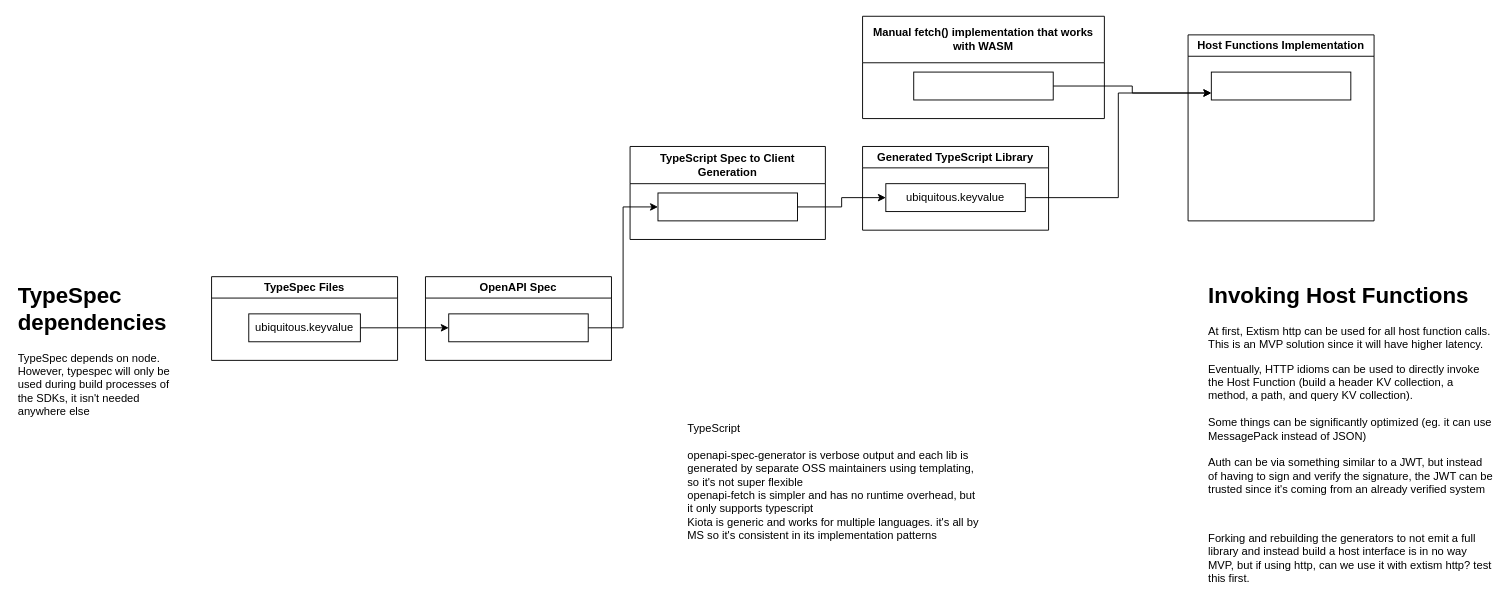
Some shapes in this 1510 by 612 pixel diagram are drawn without their labels. The shapes that lost their labels are listed below. From the top down, each one's centre as x and y in pixels, then its label:
(x=983, y=85): ubiquitous.host.fetch
(x=1280, y=85): POST /ubiq/keyvalue/read
(x=727, y=206): openapi-fetch
(x=518, y=327): ubiquitous.keyvalue.yaml
